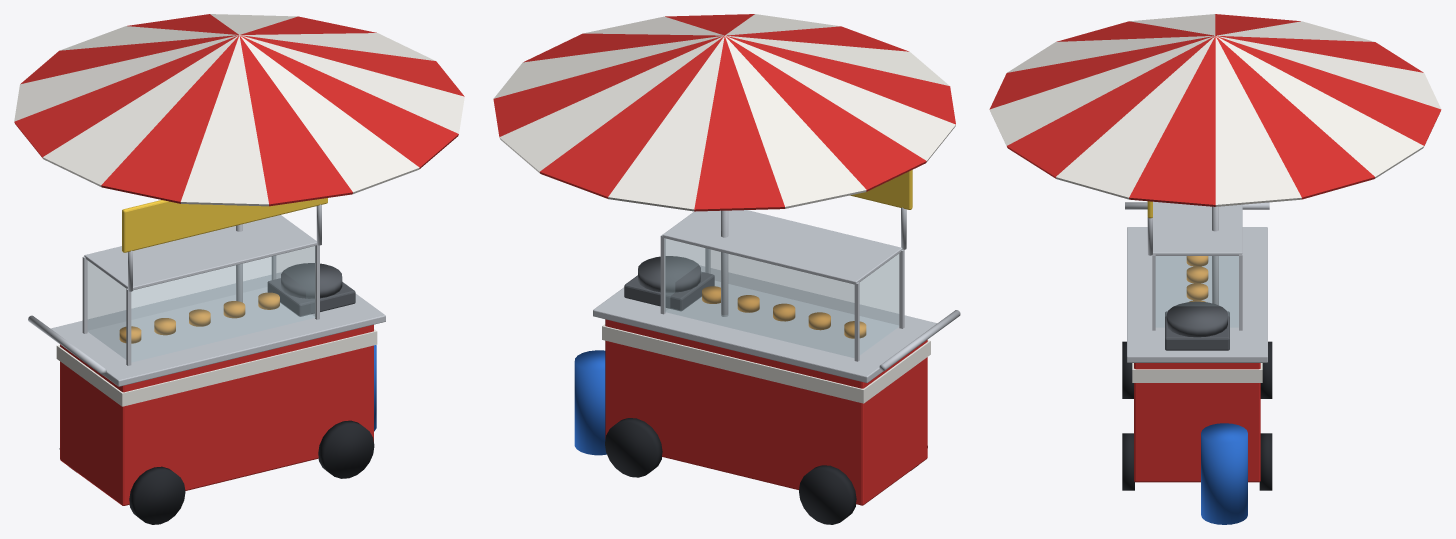
Rendered from food-cart.glb.
The picture shows the model from 3 angles, left to right: view 1: azimuth 30°, elevation 25°; view 2: azimuth 150°, elevation 25°; view 3: azimuth 270°, elevation 25°; orthographic projection. The views are drawn at different scales.
Parts seen in each view (by area): view 1: Cone, Cube, Cube.008, Cube.001, Cube.003, Cube.010, Cube.002, Cylinder.007, Cylinder.009, Cylinder.005, Cube.009, Cylinder.011; view 2: Cone, Cube, Cube.008, Cube.001, Cube.003, Cube.002, Cylinder.006, Cylinder.008, Cylinder.010, Cylinder.005, Cube.009, Cube.010 (+2 smaller); view 3: Cone, Cube.001, Cube, Cube.008, Cylinder.006, Cube.003, Cylinder.005, Cube.002, Cube.009, Cylinder.010, Cylinder.009, Cylinder.008 (+1 smaller).
Part boxes in pixels (x1,y1,x2,y2): Cone: [14, 14, 464, 206]; Cube: [60, 324, 373, 505]; Cube.008: [87, 246, 315, 362]; Cube.001: [50, 272, 385, 386]; Cube.003: [84, 215, 316, 290]; Cube.010: [122, 198, 327, 252]; Cube.002: [56, 329, 377, 406]; Cylinder.007: [129, 466, 185, 524]; Cylinder.009: [318, 420, 374, 478]; Cylinder.005: [281, 263, 342, 298]; Cube.009: [267, 278, 355, 316]; Cylinder.011: [28, 315, 106, 375]; Cone: [493, 14, 955, 211]; Cube: [605, 319, 927, 505]; Cube.008: [664, 238, 899, 357]; Cube.001: [593, 265, 936, 382]; Cube.003: [662, 210, 902, 284]; Cube.002: [602, 324, 930, 403]; Cylinder.006: [574, 350, 606, 455]; Cylinder.008: [799, 465, 856, 524]; Cylinder.010: [605, 418, 662, 477]; Cylinder.005: [638, 256, 700, 292]; Cube.009: [624, 271, 714, 311]; Cube.010: [850, 170, 912, 209]; Cone: [989, 14, 1441, 206]; Cube.001: [1127, 227, 1267, 362]; Cube: [1134, 363, 1260, 482]; Cube.008: [1155, 256, 1238, 327]; Cylinder.006: [1201, 423, 1247, 524]; Cube.003: [1153, 201, 1242, 255]; Cylinder.005: [1166, 301, 1227, 337]; Cube.002: [1132, 363, 1262, 382]; Cube.009: [1165, 311, 1229, 350]; Cylinder.010: [1259, 433, 1272, 490]; Cylinder.009: [1122, 433, 1134, 490]; Cylinder.008: [1260, 341, 1272, 398].
Bounding box in the file's own units: 2.5 × 2.57 × 2.5.
